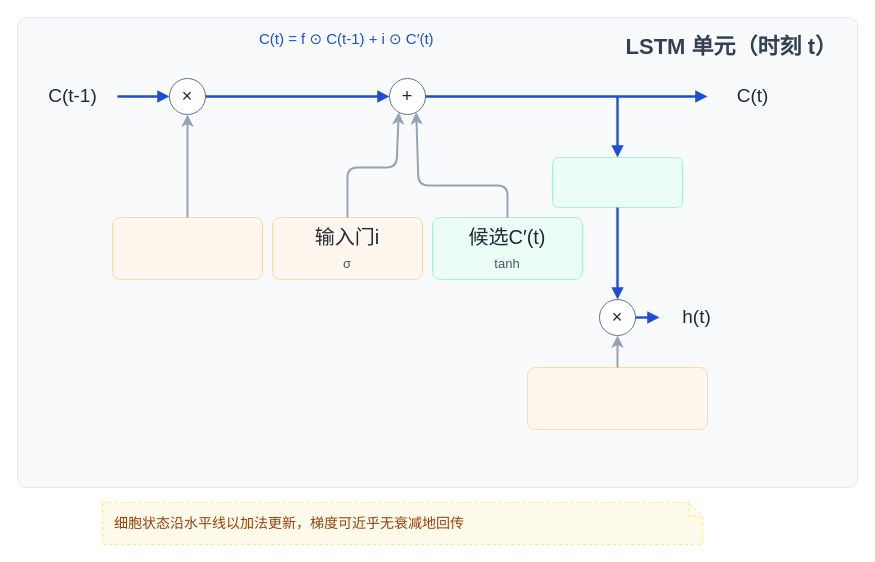
The diagram is 875 pixels wide and 562 high, and some of its shapes have lost their labels. The centre of each missing label's shape, as x and y in pixels:
tanh: the point at 617,182
输出门o σ: the point at 617,398
遗忘门f σ: the point at 187,248
